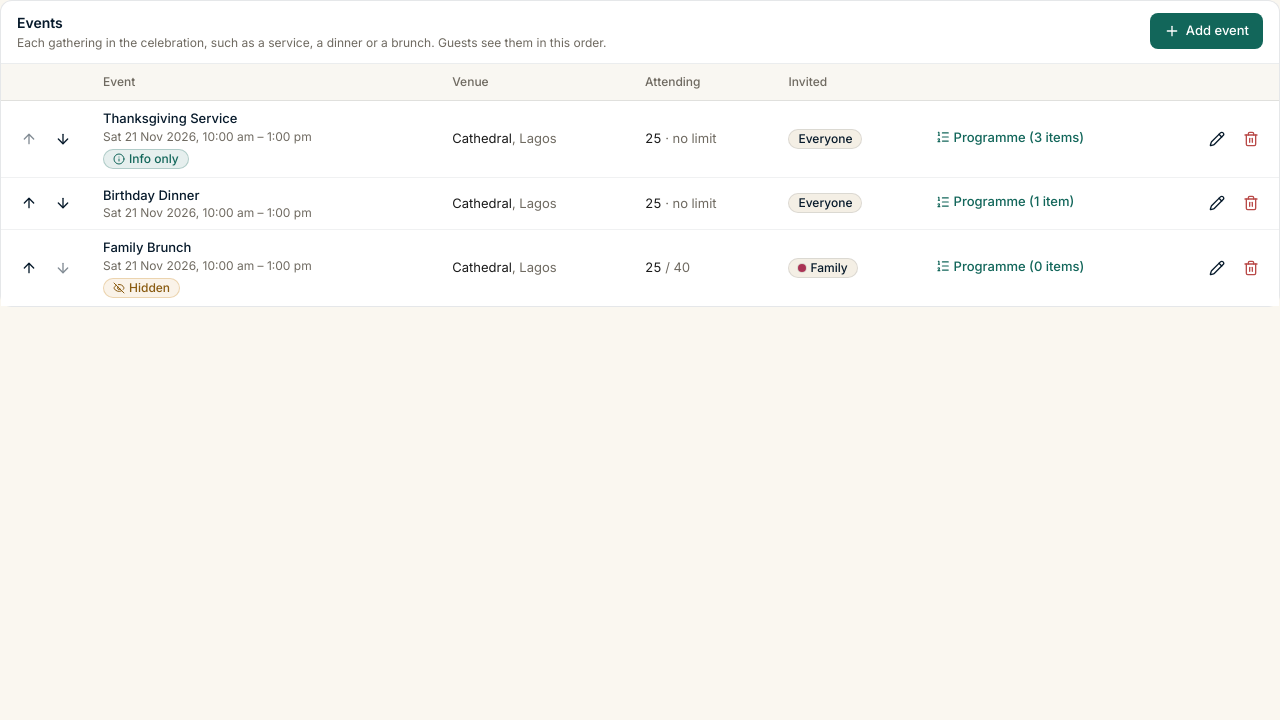
Test: EventsSection › blocks an end before the start
The width and height of the screenshot is (1280, 720).
Click the button named "Edit Birthday Dinner".
click(1217, 203)  # box [1201,187,1233,219]
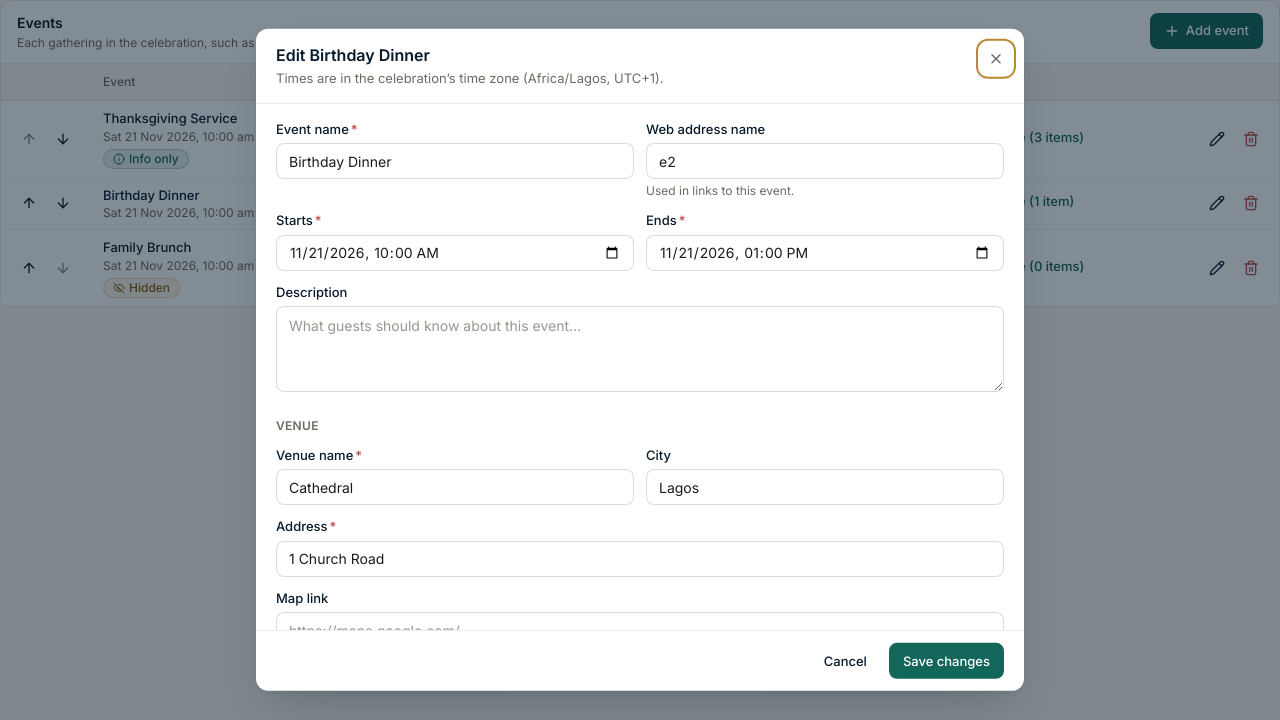
Expected: the field labelled "Starts*" holds "2026-11-21T10:00", [276,234,634,270]
Replace the text in the field labelled "Ends*" with "2026-11-21T09:00" at {"x": 825, "y": 252}, box [646,234,1004,270]
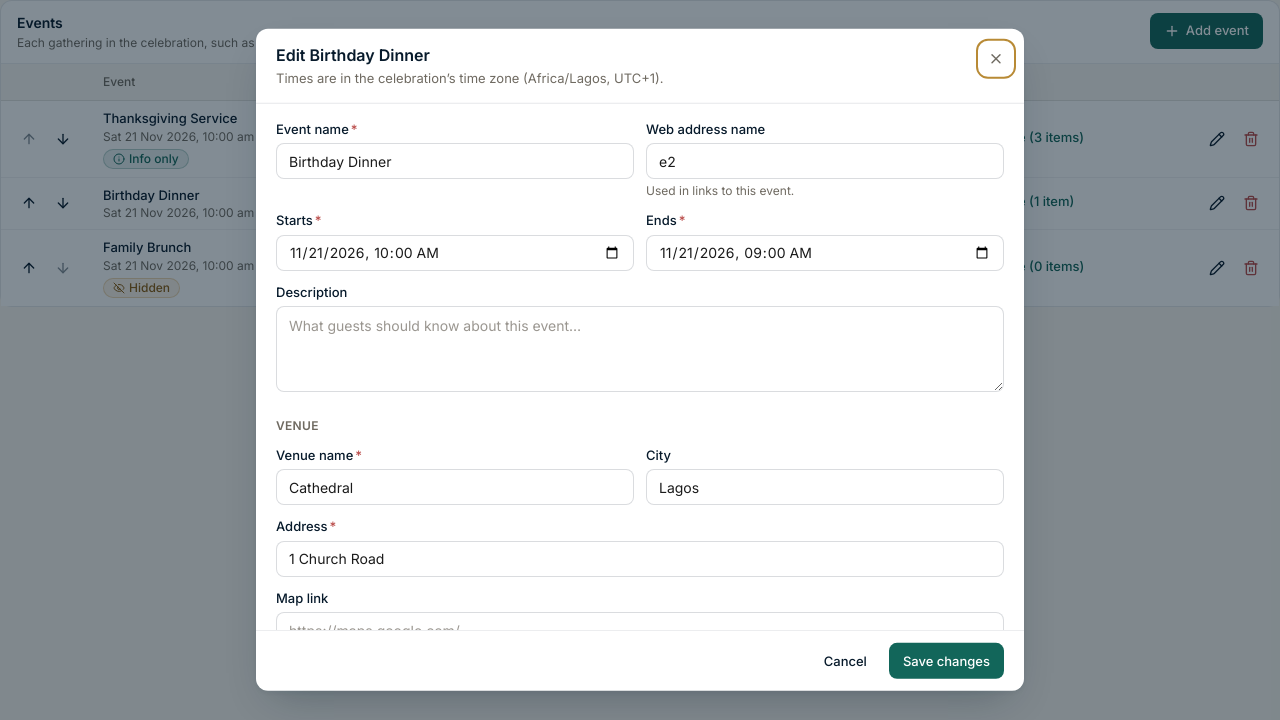
Click the button "Save changes".
click(946, 661)  # box [889,643,1004,679]
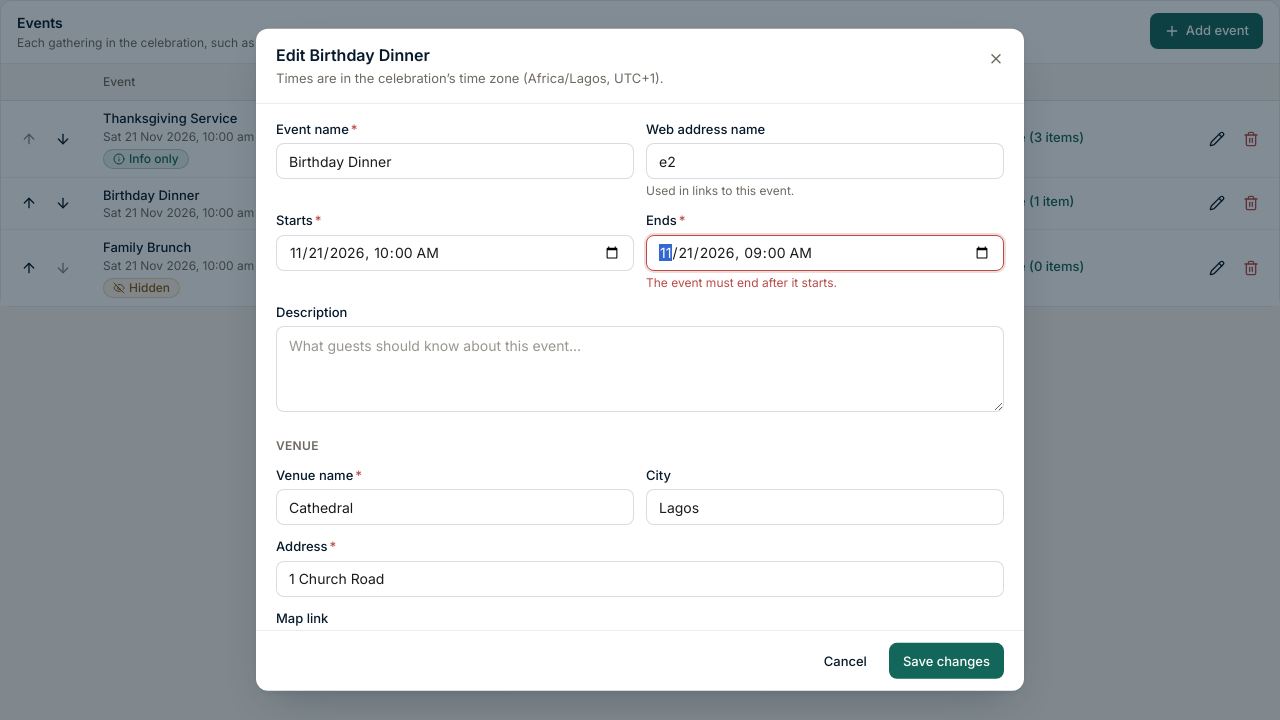
Expected: the text "The event must end after it starts." is shown, [646,274,837,289]
